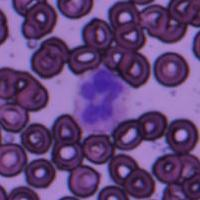N: (71, 64, 131, 134)
